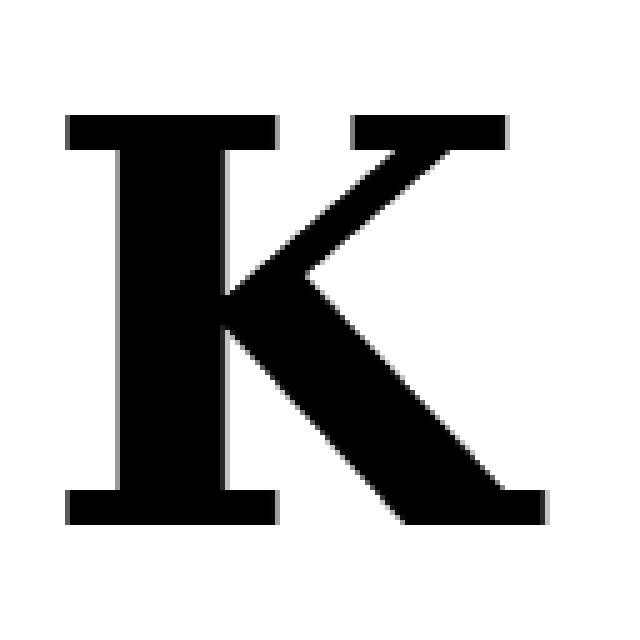K: (50, 113, 554, 523)
